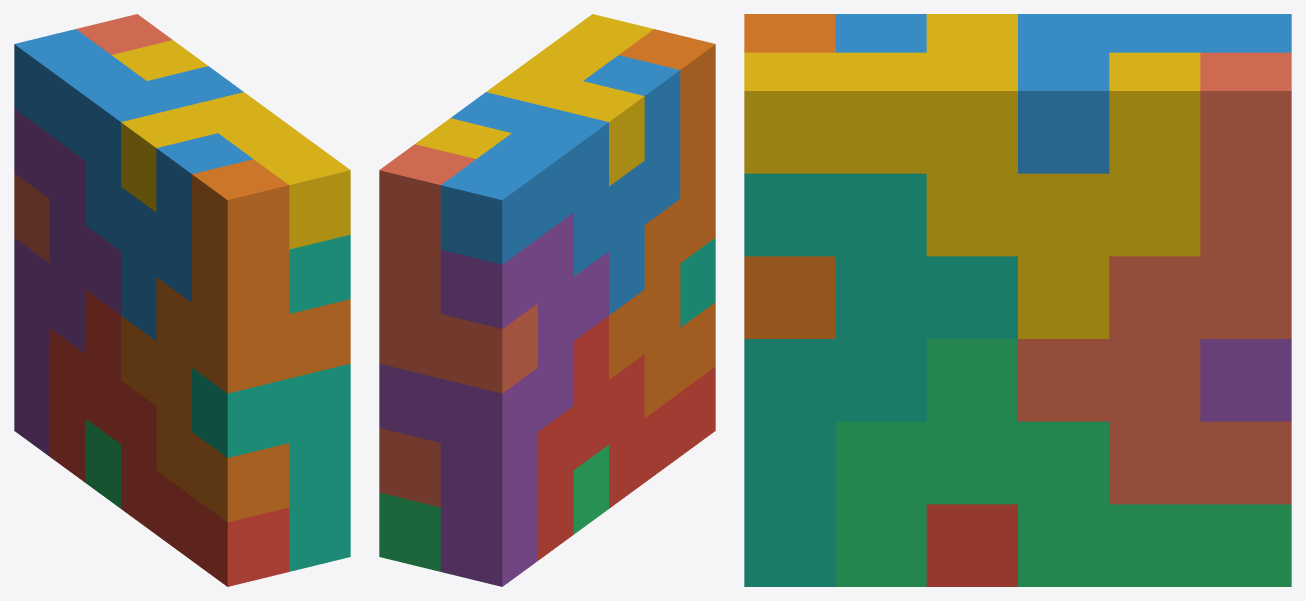
The model's file is tiling.obj.
3 renders of one model, left to right at view 1: azimuth 30°, elevation 25°; view 2: azimuth 150°, elevation 25°; view 3: azimuth 270°, elevation 25°, orthographic. The views are drawn at different scales.
Parts seen in each view (by area): view 1: copy_6, copy_2, copy_1, copy_7, copy_5, copy_4, copy_8, copy_3; view 2: copy_5, copy_2, copy_8, copy_6, copy_1, copy_4, copy_3, copy_7; view 3: copy_4, copy_8, copy_7, copy_3, copy_2, copy_6, copy_1, copy_5.
Boxes of the visible parts, left/top/right/bottom form: copy_6: left=121, top=159, right=350, bottom=522; copy_2: left=14, top=29, right=253, bottom=340; copy_1: left=49, top=290, right=289, bottom=586; copy_7: left=192, top=234, right=350, bottom=571; copy_5: left=14, top=109, right=120, bottom=456; copy_4: left=112, top=40, right=350, bottom=249; copy_8: left=14, top=14, right=172, bottom=262; copy_3: left=85, top=418, right=120, bottom=508; copy_5: left=379, top=213, right=608, bottom=586; copy_2: left=440, top=55, right=680, bottom=315; copy_8: left=379, top=144, right=537, bottom=507; copy_6: left=609, top=29, right=715, bottom=417; copy_1: left=538, top=316, right=715, bottom=560; copy_4: left=415, top=14, right=653, bottom=186; copy_3: left=379, top=445, right=608, bottom=571; copy_7: left=680, top=238, right=715, bottom=327; copy_4: left=744, top=14, right=1200, bottom=338; copy_8: left=1018, top=52, right=1291, bottom=504; copy_7: left=744, top=173, right=1017, bottom=586; copy_3: left=835, top=339, right=1291, bottom=586; copy_2: left=835, top=14, right=1291, bottom=173; copy_6: left=744, top=14, right=835, bottom=338; copy_1: left=926, top=504, right=1017, bottom=586; copy_5: left=1200, top=339, right=1291, bottom=421.
Size of the model in its own units: 2 by 6 by 6.
